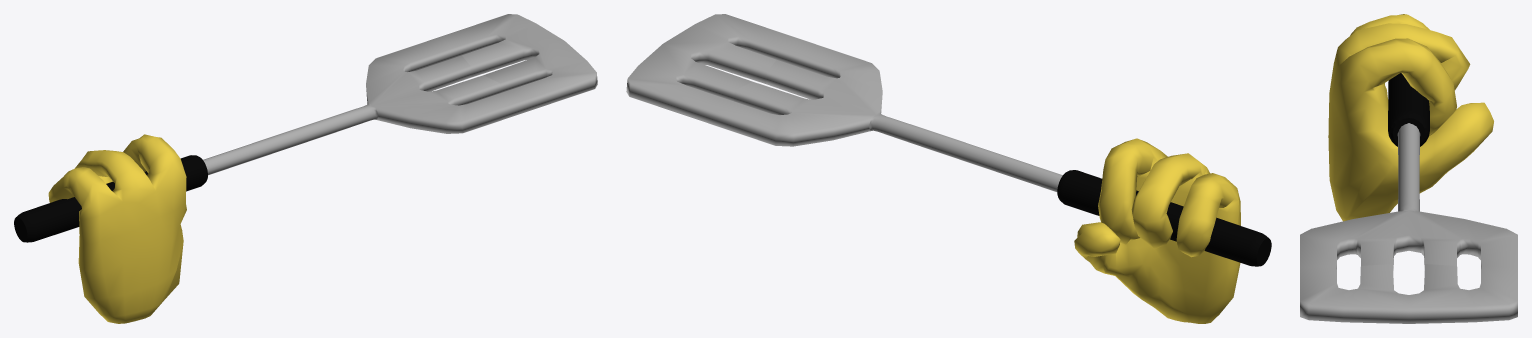
File: Spatula Hand.fbx
The picture shows the model from 3 angles, left to right: view 1: azimuth 30°, elevation 25°; view 2: azimuth 150°, elevation 25°; view 3: azimuth 270°, elevation 25°; orthographic projection. The views are drawn at different scales.
Parts seen in each view (by area): view 1: Spatular:pCube1, pCube1, Spatular:pCylinder1; view 2: Spatular:pCube1, pCube1, Spatular:pCylinder1; view 3: Spatular:pCube1, pCube1, Spatular:pCylinder1.
Part boxes in pixels (bbox=[...]): Spatular:pCube1: bbox=[203, 14, 597, 175]; pCube1: bbox=[48, 134, 186, 323]; Spatular:pCylinder1: bbox=[14, 155, 207, 242]; Spatular:pCube1: bbox=[626, 14, 1062, 191]; pCube1: bbox=[1074, 138, 1240, 323]; Spatular:pCylinder1: bbox=[1057, 170, 1271, 266]; Spatular:pCube1: bbox=[1300, 123, 1517, 323]; pCube1: bbox=[1328, 14, 1493, 221]; Spatular:pCylinder1: bbox=[1388, 73, 1429, 146].
Size of the model in its own units: 1.44 by 0.405 by 0.3937.
